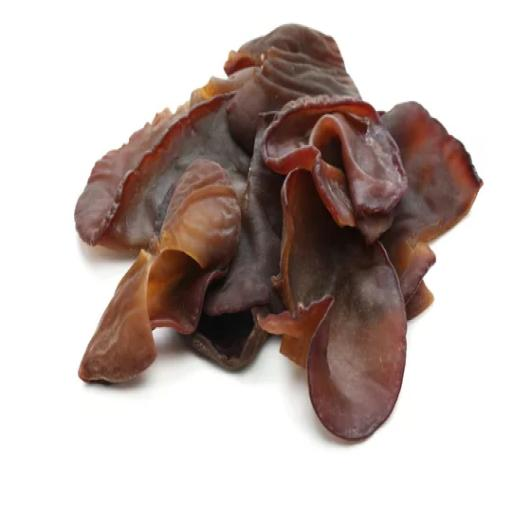Wood Ear Mushroom: (61, 7, 490, 440)
